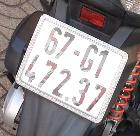1: (90, 47, 114, 84)
2: (49, 65, 78, 102)
3: (69, 75, 94, 110)
4: (21, 52, 46, 86)
6: (40, 25, 65, 58)
7: (82, 81, 110, 116), (33, 57, 60, 92), (52, 30, 79, 63)
G: (76, 42, 103, 77)
